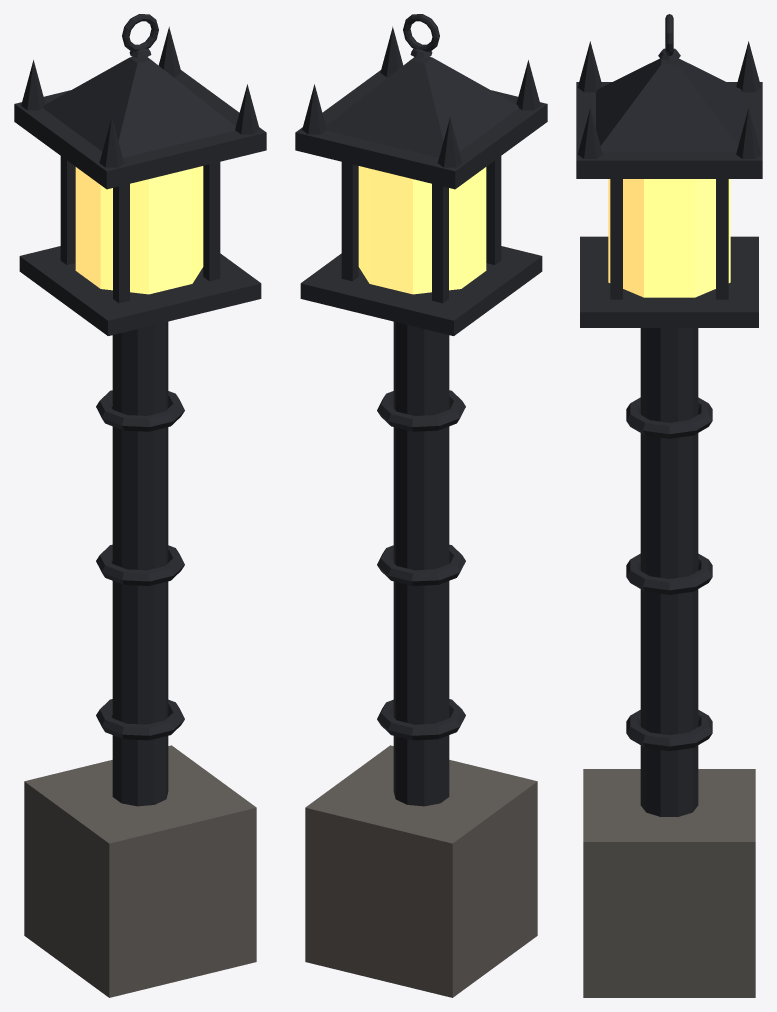
File: SM_Lamp_KeepSconce_03.glb
The picture shows the model from 3 angles, left to right: view 1: azimuth 30°, elevation 25°; view 2: azimuth 150°, elevation 25°; view 3: azimuth 270°, elevation 25°; orthographic projection.
Visible parts, largest first — view 1: SM_Lamp_KeepSconce_03_Base, SM_Lamp_KeepSconce_03_Post, SM_Lamp_KeepSconce_03_HeadGlass, SM_Lamp_KeepSconce_03_HeadRoof, SM_Lamp_KeepSconce_03_HeadBase, SM_Lamp_KeepSconce_03_HeadCap, SM_Lamp_KeepSconce_03_HeadPost3, SM_Lamp_KeepSconce_03_HeadPost2, SM_Lamp_KeepSconce_03_Collar1, SM_Lamp_KeepSconce_03_Collar0, SM_Lamp_KeepSconce_03_Collar2, SM_Lamp_KeepSconce_03_HeadPost1 (+5 smaller); view 2: SM_Lamp_KeepSconce_03_Base, SM_Lamp_KeepSconce_03_Post, SM_Lamp_KeepSconce_03_HeadGlass, SM_Lamp_KeepSconce_03_HeadRoof, SM_Lamp_KeepSconce_03_HeadBase, SM_Lamp_KeepSconce_03_HeadCap, SM_Lamp_KeepSconce_03_HeadPost0, SM_Lamp_KeepSconce_03_HeadPost1, SM_Lamp_KeepSconce_03_Collar1, SM_Lamp_KeepSconce_03_Collar0, SM_Lamp_KeepSconce_03_Collar2, SM_Lamp_KeepSconce_03_HeadPost2 (+5 smaller); view 3: SM_Lamp_KeepSconce_03_Base, SM_Lamp_KeepSconce_03_Post, SM_Lamp_KeepSconce_03_HeadRoof, SM_Lamp_KeepSconce_03_HeadGlass, SM_Lamp_KeepSconce_03_HeadBase, SM_Lamp_KeepSconce_03_HeadCap, SM_Lamp_KeepSconce_03_Collar2, SM_Lamp_KeepSconce_03_Collar0, SM_Lamp_KeepSconce_03_Collar1, SM_Lamp_KeepSconce_03_HeadPost0, SM_Lamp_KeepSconce_03_HeadPost3, SM_Lamp_KeepSconce_03_Spike1 (+3 smaller).
Boxes of the visible parts, left/top/right/bottom form: SM_Lamp_KeepSconce_03_Base: left=24, top=745, right=256, bottom=997; SM_Lamp_KeepSconce_03_Post: left=112, top=321, right=168, bottom=806; SM_Lamp_KeepSconce_03_HeadGlass: left=75, top=166, right=203, bottom=294; SM_Lamp_KeepSconce_03_HeadRoof: left=43, top=56, right=235, bottom=157; SM_Lamp_KeepSconce_03_HeadBase: left=19, top=246, right=261, bottom=335; SM_Lamp_KeepSconce_03_HeadCap: left=14, top=70, right=266, bottom=189; SM_Lamp_KeepSconce_03_HeadPost3: left=203, top=162, right=220, bottom=281; SM_Lamp_KeepSconce_03_HeadPost2: left=113, top=184, right=129, bottom=303; SM_Lamp_KeepSconce_03_Collar1: left=96, top=544, right=184, bottom=585; SM_Lamp_KeepSconce_03_Collar0: left=96, top=699, right=184, bottom=740; SM_Lamp_KeepSconce_03_Collar2: left=96, top=390, right=184, bottom=431; SM_Lamp_KeepSconce_03_HeadPost1: left=60, top=156, right=75, bottom=264; SM_Lamp_KeepSconce_03_Base: left=305, top=745, right=537, bottom=997; SM_Lamp_KeepSconce_03_Post: left=393, top=321, right=449, bottom=806; SM_Lamp_KeepSconce_03_HeadGlass: left=358, top=166, right=486, bottom=294; SM_Lamp_KeepSconce_03_HeadRoof: left=326, top=56, right=518, bottom=157; SM_Lamp_KeepSconce_03_HeadBase: left=300, top=246, right=542, bottom=335; SM_Lamp_KeepSconce_03_HeadCap: left=295, top=70, right=547, bottom=189; SM_Lamp_KeepSconce_03_HeadPost0: left=341, top=162, right=358, bottom=281; SM_Lamp_KeepSconce_03_HeadPost1: left=432, top=184, right=448, bottom=303; SM_Lamp_KeepSconce_03_Collar1: left=377, top=544, right=465, bottom=585; SM_Lamp_KeepSconce_03_Collar0: left=377, top=699, right=465, bottom=740; SM_Lamp_KeepSconce_03_Collar2: left=377, top=390, right=465, bottom=431; SM_Lamp_KeepSconce_03_HeadPost2: left=486, top=156, right=501, bottom=264; SM_Lamp_KeepSconce_03_Base: left=583, top=769, right=755, bottom=997; SM_Lamp_KeepSconce_03_Post: left=640, top=328, right=698, bottom=816; SM_Lamp_KeepSconce_03_HeadRoof: left=596, top=58, right=742, bottom=152; SM_Lamp_KeepSconce_03_HeadGlass: left=608, top=179, right=730, bottom=297; SM_Lamp_KeepSconce_03_HeadBase: left=580, top=236, right=758, bottom=327; SM_Lamp_KeepSconce_03_HeadCap: left=576, top=82, right=762, bottom=178; SM_Lamp_KeepSconce_03_Collar2: left=626, top=397, right=712, bottom=438; SM_Lamp_KeepSconce_03_Collar0: left=626, top=710, right=712, bottom=750; SM_Lamp_KeepSconce_03_Collar1: left=626, top=553, right=712, bottom=594; SM_Lamp_KeepSconce_03_HeadPost0: left=716, top=179, right=728, bottom=299; SM_Lamp_KeepSconce_03_HeadPost3: left=610, top=179, right=622, bottom=299; SM_Lamp_KeepSconce_03_Spike1: left=736, top=41, right=761, bottom=92.
Bounding box in the file's own units: 0.325 × 1.82 × 0.325.
